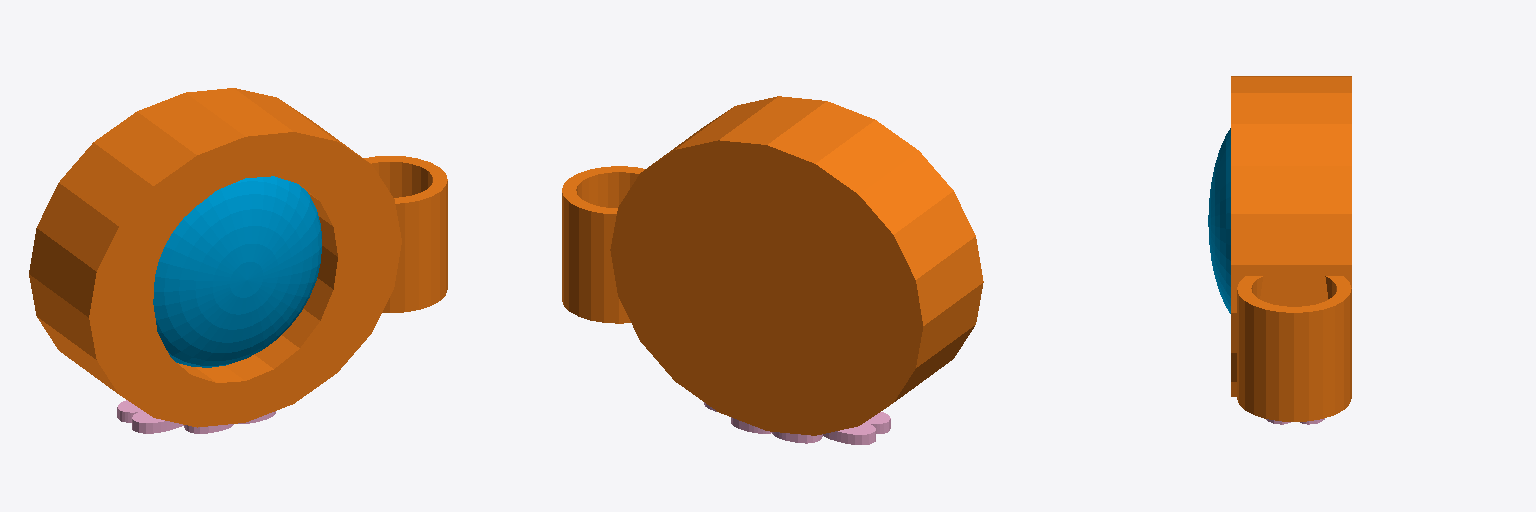
The model's file is tinker.obj.
3 views of the same model, side by side, from view 1: azimuth 30°, elevation 25°; view 2: azimuth 150°, elevation 25°; view 3: azimuth 270°, elevation 25° (orthographic).
Parts seen in each view (by area): view 1: obj_0; view 2: obj_0; view 3: obj_0.
Boxes of the visible parts, x1=… form: obj_0: x1=29, y1=88, x2=447, y2=433; obj_0: x1=562, y1=96, x2=983, y2=444; obj_0: x1=1208, y1=76, x2=1351, y2=424.
Size of the model in its own units: 77 by 56 by 25.